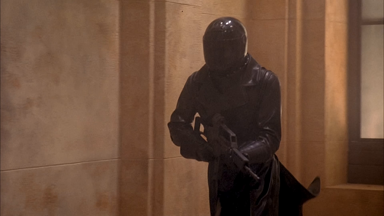firearm: (191, 112, 262, 185)
